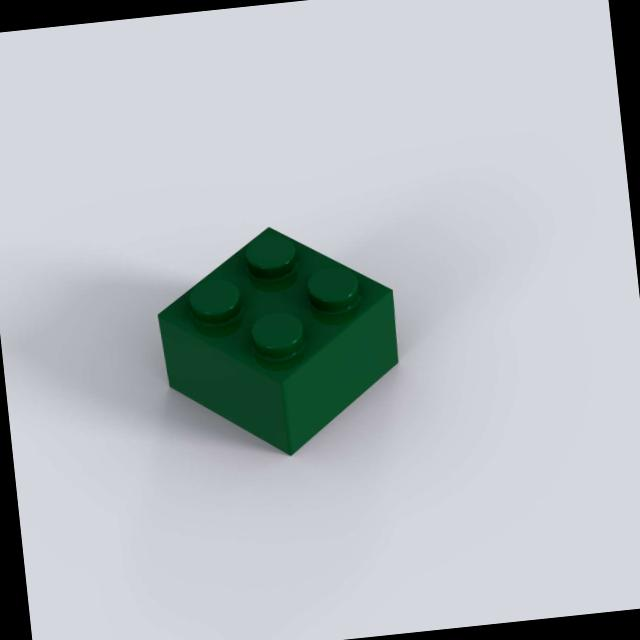2x2: (158, 228, 397, 453)
